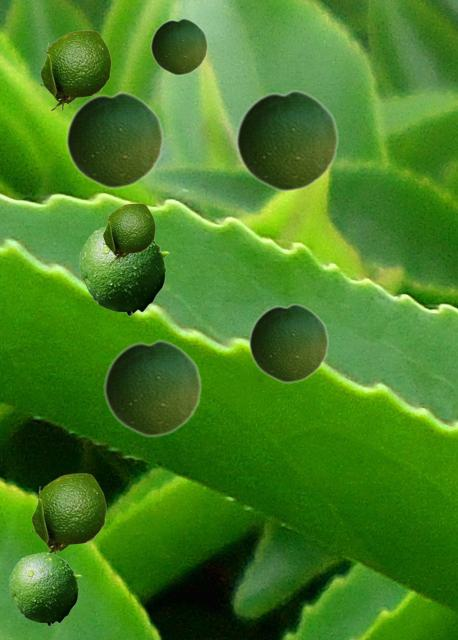dalandan: (235, 88, 338, 192), (65, 91, 163, 189), (103, 339, 201, 437), (79, 226, 168, 315), (248, 302, 328, 383), (30, 473, 105, 554), (39, 30, 110, 110), (9, 552, 80, 625), (150, 17, 207, 75), (102, 203, 154, 262)
